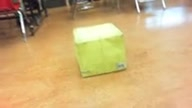cube: (72, 22, 127, 78)
